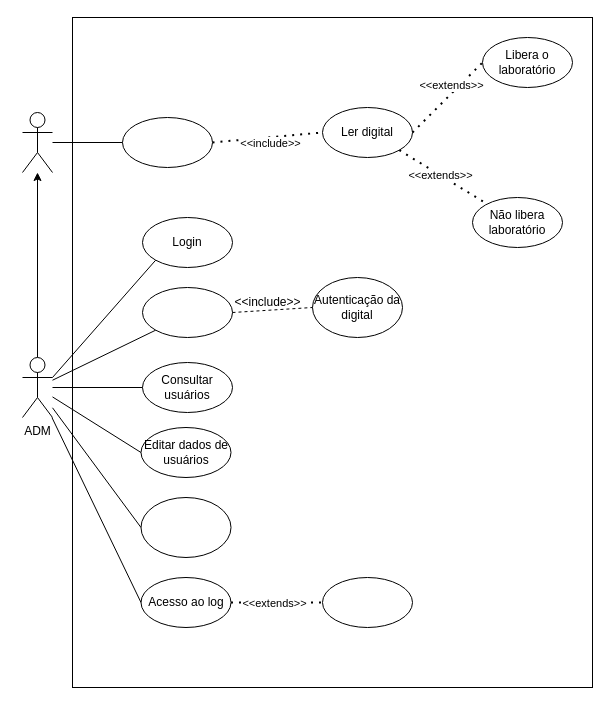
This 610x705 diagram has some shape labels left out. Each missing label, with the centre of its shape:
Backup relatórios: pixel 367 602
Cadastra digitais: pixel 187 312
Gerenciamento de permissões: pixel 185 527
Inseri a digital: pixel 167 142
Usuario: pixel 37 142
